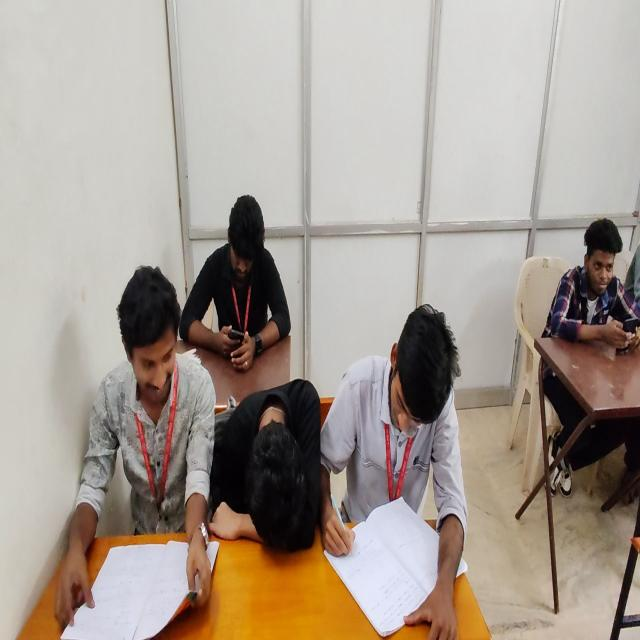reading: (47, 248, 218, 634)
sleeping: (199, 358, 326, 586)
using_mobile: (172, 174, 308, 376), (535, 193, 639, 359)
writing: (319, 282, 473, 640)
